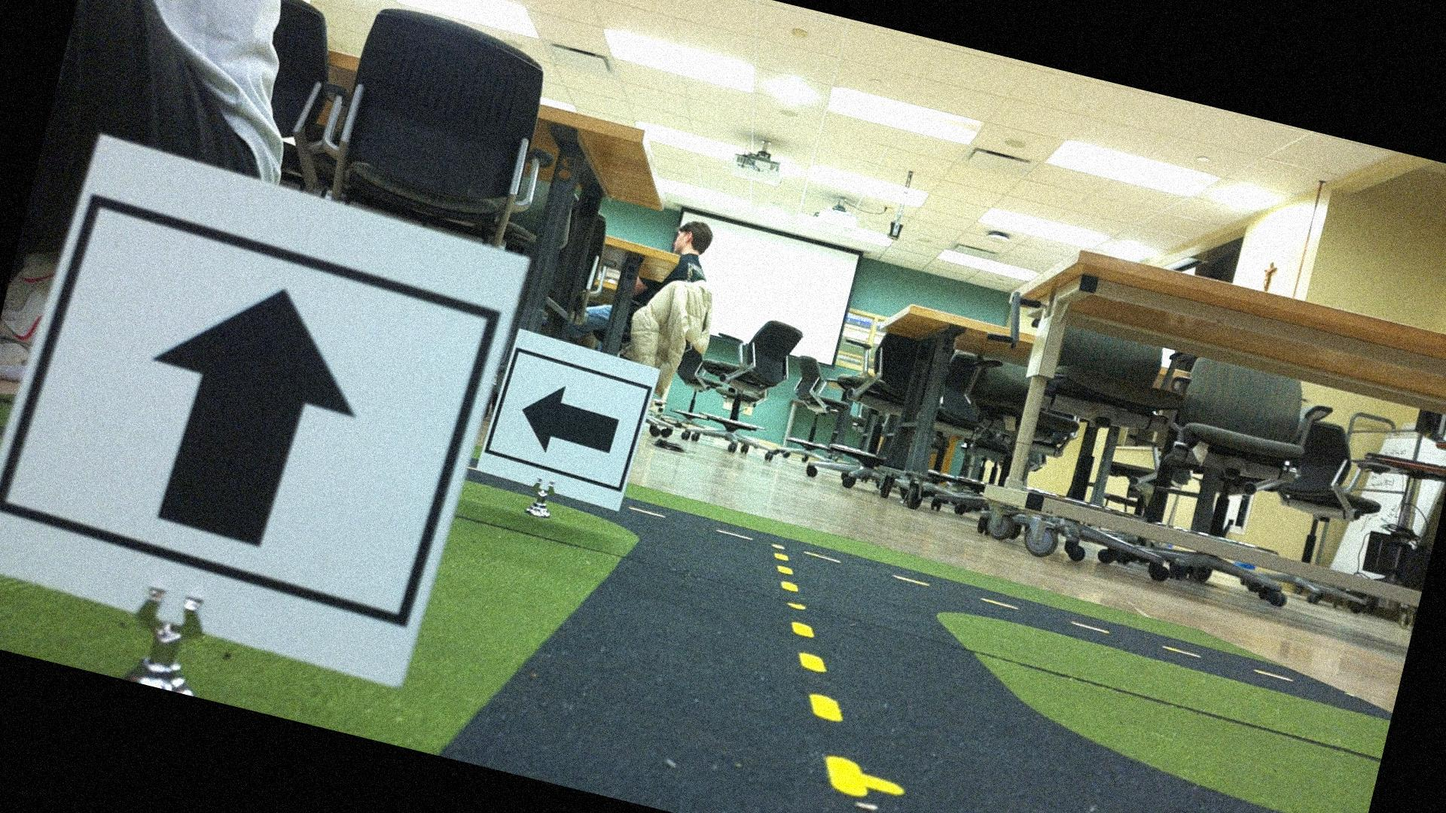gostraight: (0, 137, 499, 668)
yellowline: (722, 542, 914, 793)
